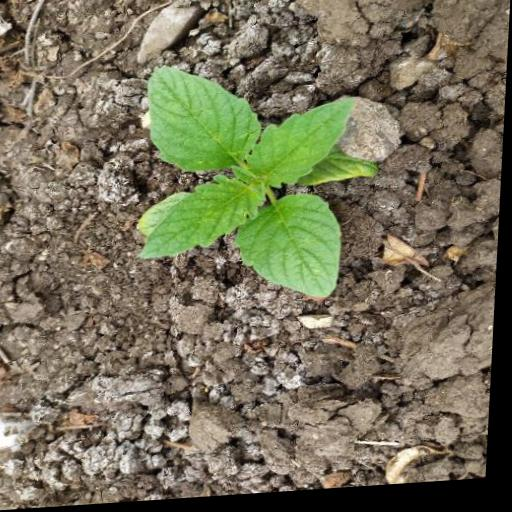crop: (127, 45, 397, 315)
